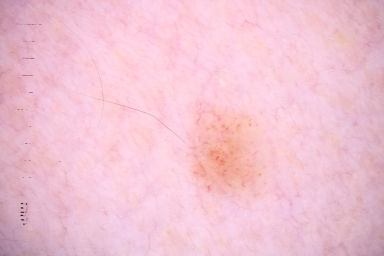nevus: (187, 105, 269, 200)
